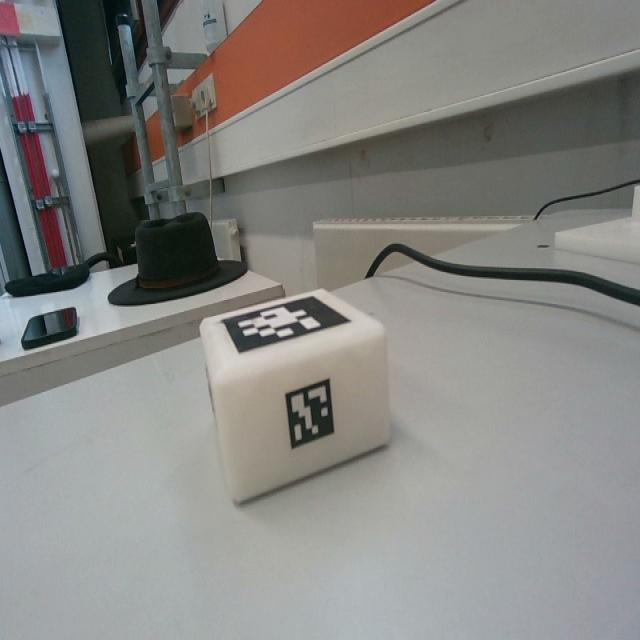Cube: (200, 283, 392, 507)
